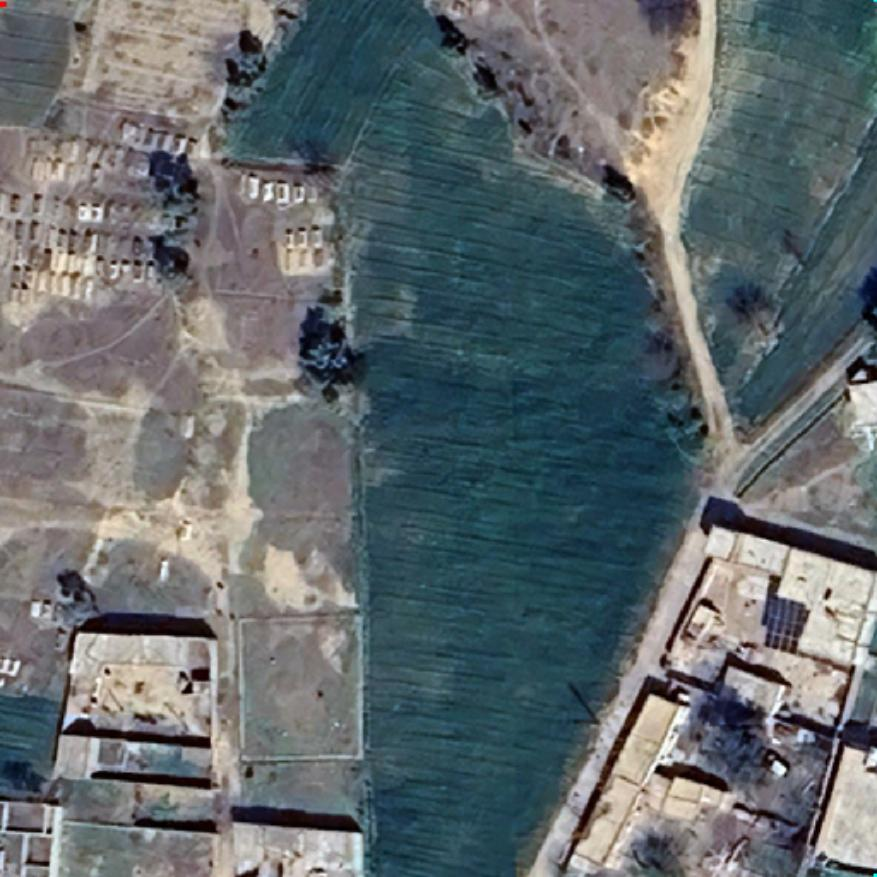Solarpanel: (759, 592, 809, 655)
